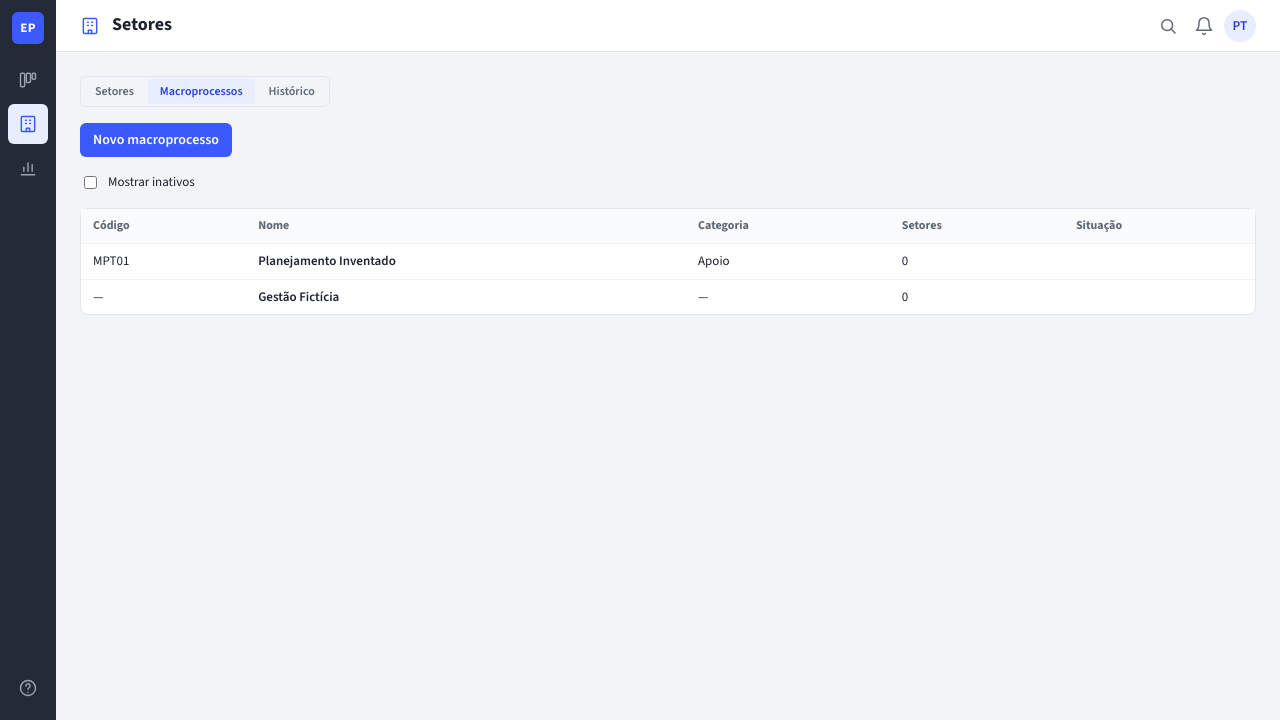
Test: clicar na linha abre o macroprocesso com o formulário preenchido
Click the cell "Planejamento Inventado". click: coordinates (466, 262)
box: 246,244 -> 686,280
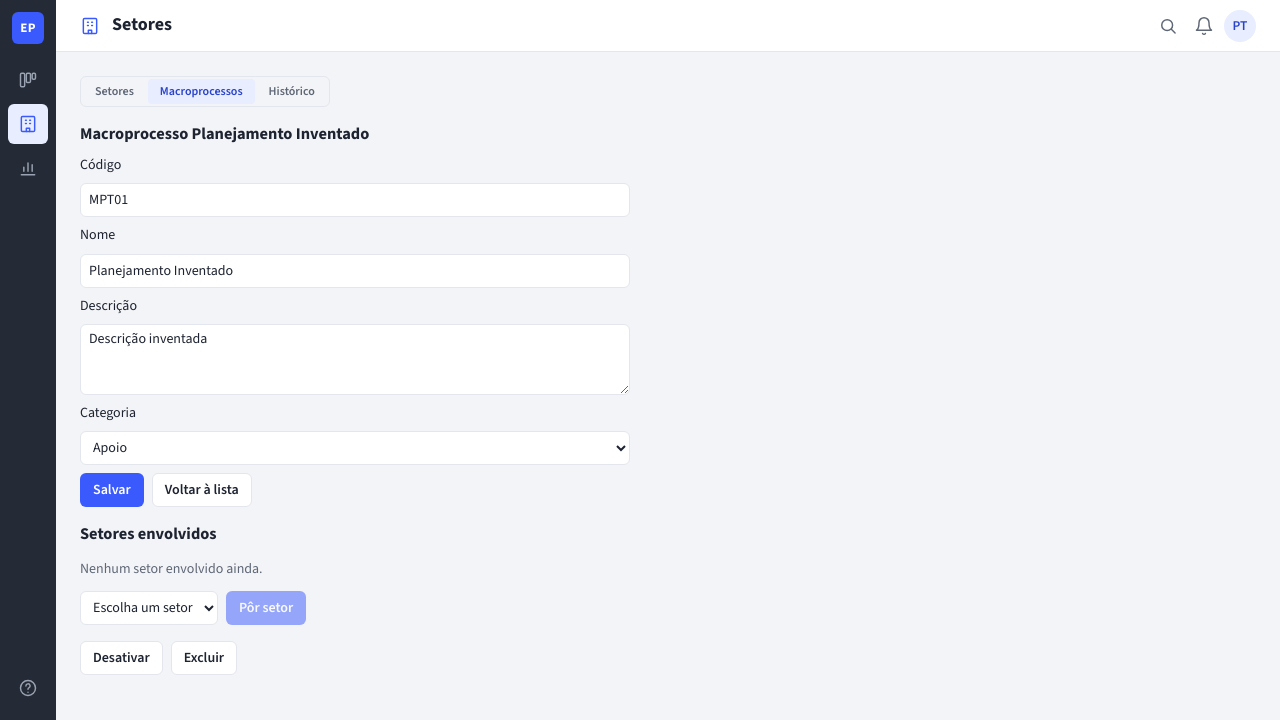
Result: the field labelled "Código" holds "MPT01" at 80,183 -> 630,217
Result: the field labelled "Nome" holds "Planejamento Inventado" at 80,254 -> 630,288
Result: the text box labelled "Descrição" holds "Descrição inventada" at 80,324 -> 630,395
